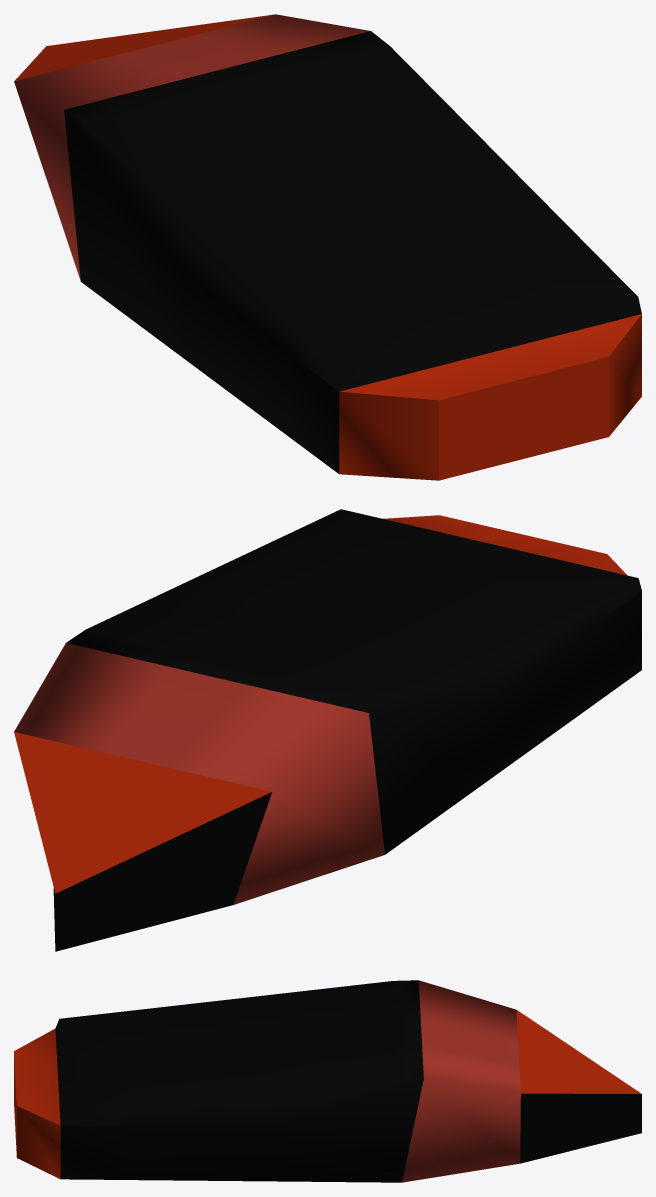
File: Horde Body 1.fbx
The picture shows the model from 3 angles, top to bottom: view 1: azimuth 30°, elevation 25°; view 2: azimuth 150°, elevation 25°; view 3: azimuth 270°, elevation 25°; orthographic projection. The views are drawn at different scales.
Parts seen in each view (by area): view 1: pSphere5; view 2: pSphere5; view 3: pSphere5.
Boxes of the visible parts, <box> form: pSphere5: <box>14,14,641,480</box>; pSphere5: <box>14,509,641,951</box>; pSphere5: <box>14,980,641,1182</box>.
Size of the model in its own units: 6.99 by 3.39 by 18.55.
